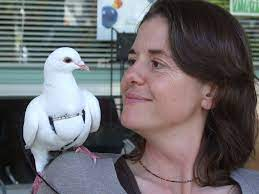Flying Rat: (21, 44, 105, 179)
